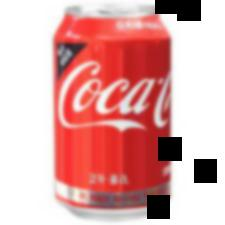cocacola: (44, 6, 186, 222)
